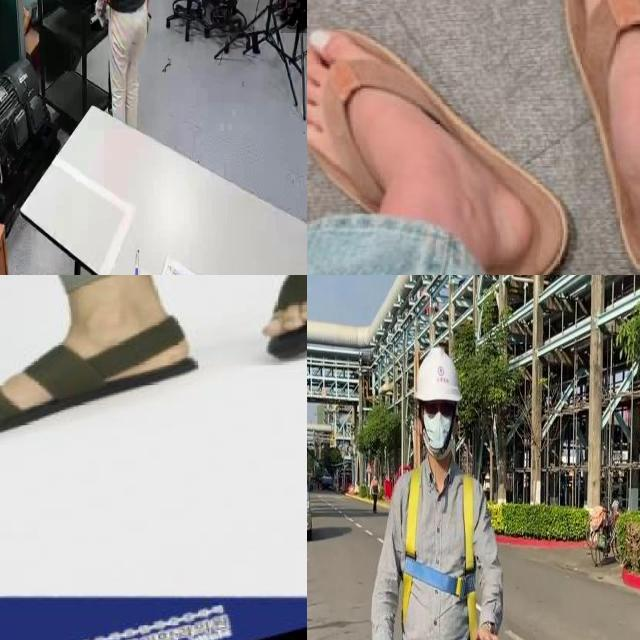Harness: (402, 466, 477, 640)
Sandals: (307, 20, 570, 275), (0, 296, 199, 457), (539, 0, 640, 275)
hand_glove: (91, 0, 108, 32)
person: (87, 0, 157, 129)
